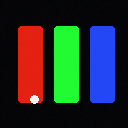0 point: (30, 95, 38, 103)
